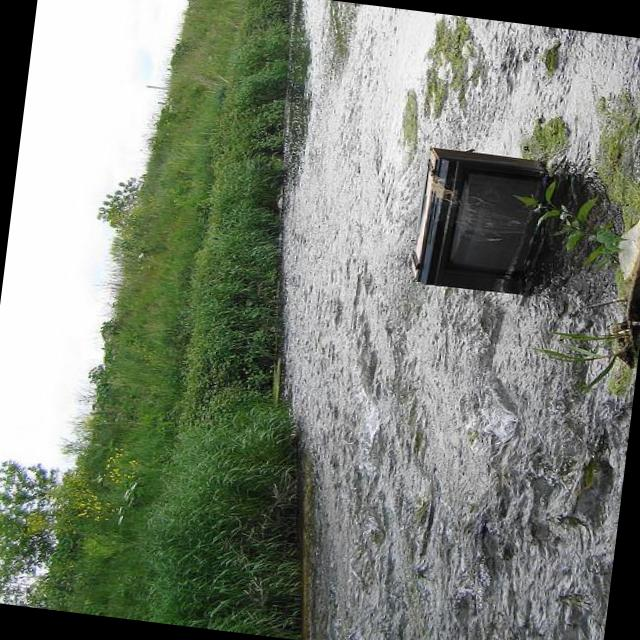tvmonitor: (401, 142, 567, 300)
